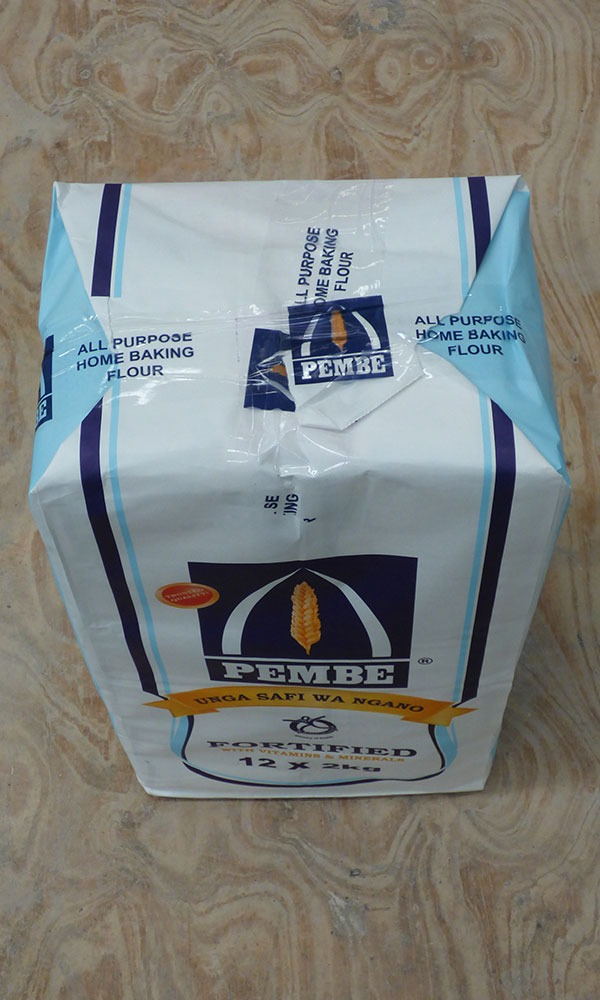wheat_flour_blue_label: (38, 178, 567, 798)
